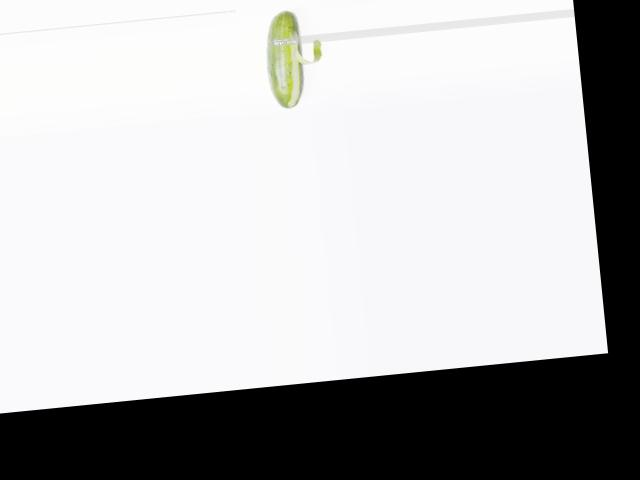cucumber: (262, 8, 308, 110)
